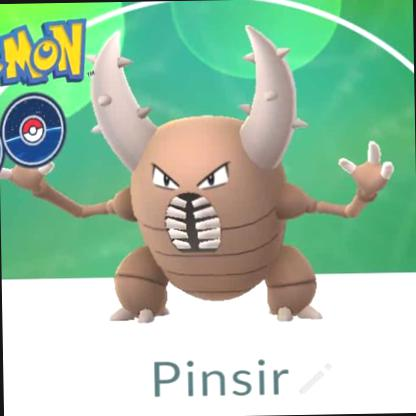Pinsir: (20, 8, 415, 415)
